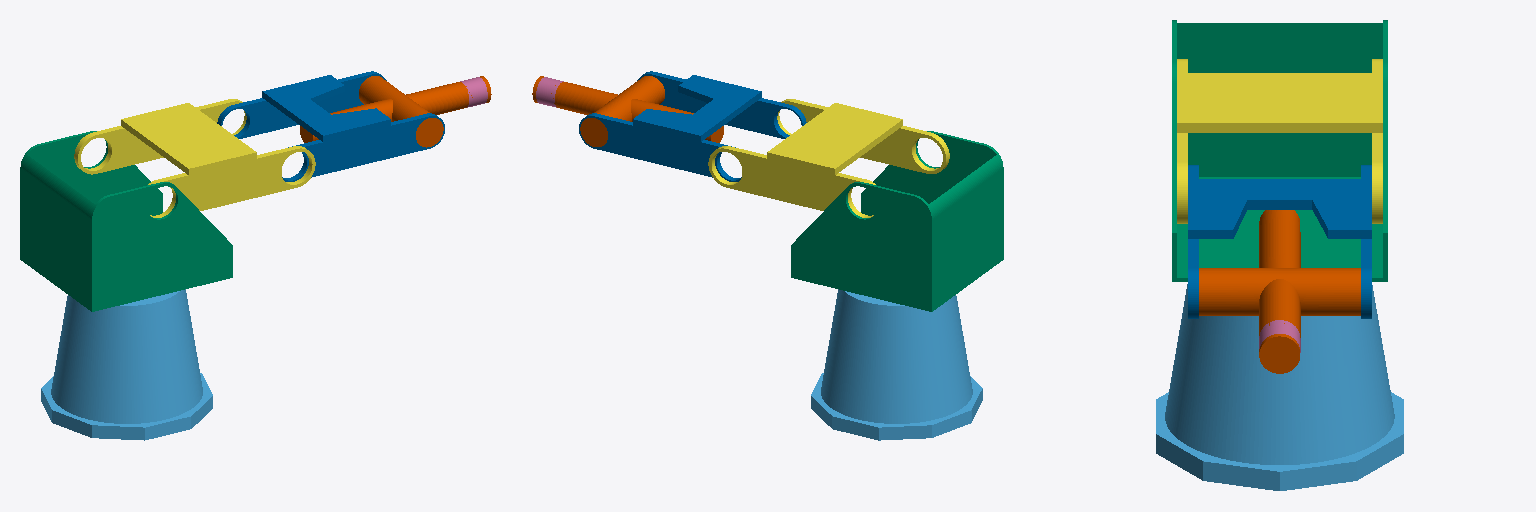
The robot description file, URDF, robot "scorbot":
<?xml version="1.0"?>

<robot name="scorbot">
    <link name="world"/>
    
    <joint name="fixed" type="fixed">
        <origin xyz="0.0 0.0 0.0" rpy="0.0 0.0 0.0"/>
        <parent link="world"/>
        <child link="base_link"/>        
    </joint>

    <link name="base_link">
        <inertial>
            <origin xyz="0.00063327 0.00002002 0.08600836" rpy="0.0 0.0 0.0"/>
            <mass value="5.64418463"/>
            <inertia ixx="0.03159046" ixy="0.0" ixz="0.0" iyy="0.03159045" iyz="0.00000859" izz="0.02690899"/>
        </inertial>
        <visual>
            <origin xyz="0.0 0.0 0.0" rpy="0.0 0.0 0.0"/>
            <geometry>
                <mesh filename="package://scorbot/meshes/base_link.stl" scale="1 1 1"/>
            </geometry>
        </visual>
        <collision>
            <origin xyz="0.0 0.0 0.0" rpy="0.0 0.0 0.0"/>
            <geometry>
                <mesh filename="package://scorbot/meshes/base_link.stl" scale="1 1 1"/>
            </geometry>
        </collision>
    </link>

    <joint name="j1" type="revolute">
        <origin xyz="0.0 0.0 0.19" rpy="0.0 0.0 0.0"/>
        <parent link="base_link"/>
        <child link="link_1"/>
        <axis xyz="0.0 0.0 1.0"/>
        <limit lower="-3.14" upper="3.14" effort="10.0" velocity="20.0"/>
        <dynamics damping="0.0" friction="0.0"/>
    </joint>

    <transmission name="m1">
        <type>transmission_interface/SimpleTransmission</type>
        <joint name="j1">
            <hardwareInterface>hardware_interface/EffortJointInterface</hardwareInterface>
        </joint>
        <actuator name="j1">
            <mechanicalReduction>1.0</mechanicalReduction>
            <hardwareInterface>hardware_interface/EffortJointInterface</hardwareInterface>
        </actuator>
    </transmission>

    <link name="link_1">
        <inertial>
            <origin xyz="-0.03930974 0.0 0.07464813" rpy="0.0 0.0 0.0"/>
            <mass value="0.76082182"/>
            <inertia ixx="0.00625249" ixy="0.0" ixz="0.00099059" iyy="0.00574761" iyz="0.0" izz="0.00805851"/>
        </inertial>
        <visual>
            <origin xyz="0.0 0.0 0.0" rpy="0.0 0.0 0.0"/>
            <geometry>
                <mesh filename="package://scorbot/meshes/link_1.stl" scale="1 1 1"/>
            </geometry>
        </visual>
        <collision>
            <origin xyz="0.0 0.0 0.0" rpy="0.0 0.0 0.0"/>
            <geometry>
                <mesh filename="package://scorbot/meshes/link_1.stl" scale="1 1 1"/>
            </geometry>
        </collision>
    </link>

    <joint name="j2" type="revolute">
        <origin xyz="0.0 0.0 0.16205333" rpy="0.0 0.0 0.0"/>
        <parent link="link_1"/>
        <child link="link_2"/>
        <axis xyz="0.0 1.0 0.0"/>
        <limit lower="-3.14" upper="3.14" effort="10.0" velocity="20.0"/>
        <dynamics damping="0.0" friction="0.0"/>
    </joint>

    <transmission name="m2">
        <type>transmission_interface/SimpleTransmission</type>
        <joint name="j2">
            <hardwareInterface>hardware_interface/EffortJointInterface</hardwareInterface>
        </joint>
        <actuator name="j2">
            <mechanicalReduction>1.0</mechanicalReduction>
            <hardwareInterface>hardware_interface/EffortJointInterface</hardwareInterface>
        </actuator>
    </transmission>

    <link name="link_2">
        <inertial>
            <origin xyz="0.10539325 0.0 0.01621919" rpy="0.0 0.0 0.0"/>
            <mass value="0.45100885"/>
            <inertia ixx="0.00280980" ixy="0.0" ixz="0.00003902" iyy="0.00139816" iyz="0.0" izz="0.00377041"/>
        </inertial>
        <visual>
            <origin xyz="0.0 0.0 0.0" rpy="0.0 0.0 0.0"/>
            <geometry>
                <mesh filename="package://scorbot/meshes/link_2.stl" scale="1 1 1"/>
            </geometry>
        </visual>
        <collision>
            <origin xyz="0.0 0.0 0.0" rpy="0.0 0.0 0.0"/>
            <geometry>
                <mesh filename="package://scorbot/meshes/link_2.stl" scale="1 1 1"/>
            </geometry>
        </collision>
    </link>

    <joint name="j3" type="revolute">
        <origin xyz="0.22 0.0 0.0" rpy="0.0 0.0 0.0"/>
        <parent link="link_2"/>
        <child link="link_3"/>
        <axis xyz="0.0 1.0 0.0"/>
        <limit lower="-3.14" upper="3.14" effort="10.0" velocity="20.0"/>
        <dynamics damping="0.0" friction="0.0"/>
    </joint>

    <transmission name="m3">
        <type>transmission_interface/SimpleTransmission</type>
        <joint name="j3">
            <hardwareInterface>hardware_interface/EffortJointInterface</hardwareInterface>
        </joint>
        <actuator name="j3">
            <mechanicalReduction>1.0</mechanicalReduction>
            <hardwareInterface>hardware_interface/EffortJointInterface</hardwareInterface>
        </actuator>
    </transmission>

    <link name="link_3">
        <inertial>
            <origin xyz="0.10355563 -0.00007485 0.01245472" rpy="0.0 0.0 0.0"/>
            <mass value="0.33453905"/>
            <inertia ixx="0.00179957" ixy="0.00000085" ixz="0.00003783" iyy="0.00095300" iyz="0.00000044" izz="0.00251621"/>
        </inertial>
        <visual>
            <origin xyz="0.0 0.0 0.0" rpy="0.0 0.0 0.0"/>
            <geometry>
                <mesh filename="package://scorbot/meshes/link_3.stl" scale="1 1 1"/>
            </geometry>
        </visual>
        <collision>
            <origin xyz="0.0 0.0 0.0" rpy="0.0 0.0 0.0"/>
            <geometry>
                <mesh filename="package://scorbot/meshes/link_3.stl" scale="1 1 1"/>
            </geometry>
        </collision>
    </link>

    <joint name="j4" type="revolute">
        <origin xyz="0.22 0.0 0.0" rpy="0.0 0.0 0.0"/>
        <parent link="link_3"/>
        <child link="link_4"/>
        <axis xyz="0.0 1.0 0.0"/>
        <limit lower="-3.14" upper="3.14" effort="10.0" velocity="20.0"/>
        <dynamics damping="0.0" friction="0.0"/>
    </joint>

    <transmission name="m4">
        <type>transmission_interface/SimpleTransmission</type>
        <joint name="j4">
            <hardwareInterface>hardware_interface/EffortJointInterface</hardwareInterface>
        </joint>
        <actuator name="j4">
            <mechanicalReduction>1.0</mechanicalReduction>
            <hardwareInterface>hardware_interface/EffortJointInterface</hardwareInterface>
        </actuator>
    </transmission>

    <link name="link_4">
        <inertial>
            <origin xyz="-0.00360557 -0.00000001 -0.00000065" rpy="0.0 0.0 0.0"/>
            <mass value="0.55434578"/>
            <inertia ixx="0.00073757" ixy="0.0" ixz="0.0" iyy="0.00237510" iyz="0.0" izz="0.00299135"/>
        </inertial>
        <visual>
            <origin xyz="0.0 0.0 0.0" rpy="0.0 0.0 0.0"/>
            <geometry>
                <mesh filename="package://scorbot/meshes/link_4.stl" scale="1 1 1"/>
            </geometry>
        </visual>
        <collision>
            <origin xyz="0.0 0.0 0.0" rpy="0.0 0.0 0.0"/>
            <geometry>
                <mesh filename="package://scorbot/meshes/link_4.stl" scale="1 1 1"/>
            </geometry>
        </collision>
    </link>

    <joint name="j5" type="revolute">
        <origin xyz="0.1319 0.0 0.0" rpy="0.0 0.0 0.0"/>
        <parent link="link_4"/>
        <child link="link_5"/>
        <axis xyz="1.0 0.0 0.0"/>
        <limit lower="-3.14" upper="3.14" effort="10.0" velocity="20.0"/>
        <dynamics damping="0.0" friction="0.0"/>
    </joint>

    <transmission name="m5">
        <type>transmission_interface/SimpleTransmission</type>
        <joint name="j5">
            <hardwareInterface>hardware_interface/EffortJointInterface</hardwareInterface>
        </joint>
        <actuator name="j5">
            <mechanicalReduction>1.0</mechanicalReduction>
            <hardwareInterface>hardware_interface/EffortJointInterface</hardwareInterface>
        </actuator>
    </transmission>

    <link name="link_5">
        <inertial>
            <origin xyz="-0.01198188 -0.00000003 -0.00000066" rpy="0.0 0.0 0.0"/>
            <mass value="0.51992001"/>
            <inertia ixx="0.00073129" ixy="0.0" ixz="0.0" iyy="0.00178197" iyz="0.0" izz="0.00239821"/>
        </inertial>
        <visual name="">
            <origin xyz="0.0 0.0 0.0" rpy="0.0 0.0 0.0"/>
            <geometry>
                <mesh filename="package://scorbot/meshes/link_5.stl" scale="0.001 0.001 0.001"/>
            </geometry>
        </visual>
        <collision>
            <origin xyz="0.0 0.0 0.0" rpy="0.0 0.0 0.0"/>
            <geometry>
                <mesh filename="package://scorbot/meshes/link_5.stl" scale="0.001 0.001 0.001"/>
            </geometry>
        </collision>
    </link>

    <gazebo>
        <plugin name = "gazebo_ros_control" filename = "libgazebo_ros_control.so">
            <robotNamespace>/scorbot</robotNamespace>
        </plugin>
    </gazebo>

</robot>

--- Facts derived from the render (not from the file) ---
3 views of the same robot in one strip: view 1: azimuth 30°, elevation 25°; view 2: azimuth 150°, elevation 25°; view 3: azimuth 270°, elevation 25° (orthographic).
Model scorbot with 7 links and 6 joints (5 revolute, 1 fixed), rooted at world, posed all joints at 0.
Links seen in each view (by area): view 1: link_1, base_link, link_2, link_3, link_4; view 2: link_1, base_link, link_2, link_3, link_4; view 3: base_link, link_1, link_2, link_4, link_3, link_5.
Link boxes in pixels (x1=…): link_1: x1=20, y1=131, x2=232, y2=311; base_link: x1=41, y1=289, x2=212, y2=440; link_2: x1=74, y1=99, x2=315, y2=217; link_3: x1=217, y1=71, x2=444, y2=181; link_4: x1=300, y1=76, x2=491, y2=147; link_1: x1=791, y1=131, x2=1003, y2=311; base_link: x1=811, y1=289, x2=982, y2=440; link_2: x1=708, y1=99, x2=949, y2=217; link_3: x1=579, y1=71, x2=806, y2=181; link_4: x1=532, y1=76, x2=723, y2=146; base_link: x1=1156, y1=284, x2=1403, y2=490; link_1: x1=1172, y1=20, x2=1387, y2=281; link_2: x1=1177, y1=59, x2=1382, y2=223; link_4: x1=1199, y1=210, x2=1360, y2=373; link_3: x1=1188, y1=165, x2=1371, y2=318; link_5: x1=1259, y1=320, x2=1300, y2=352.
Size in the robot's own frame: 0.6982 by 0.23 by 0.3921 metres.
6 mesh visuals loaded from 6 distinct referenced files (1 binary STL, 5 ASCII STL).